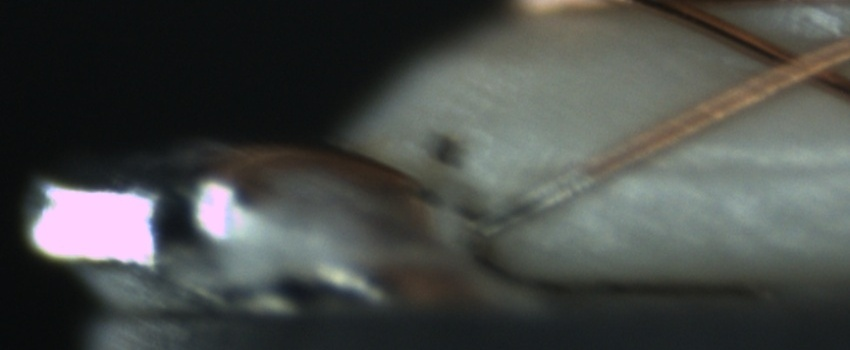CL: (746, 33, 842, 95)
DL: (620, 132, 846, 202)
TS: (475, 169, 591, 237)
